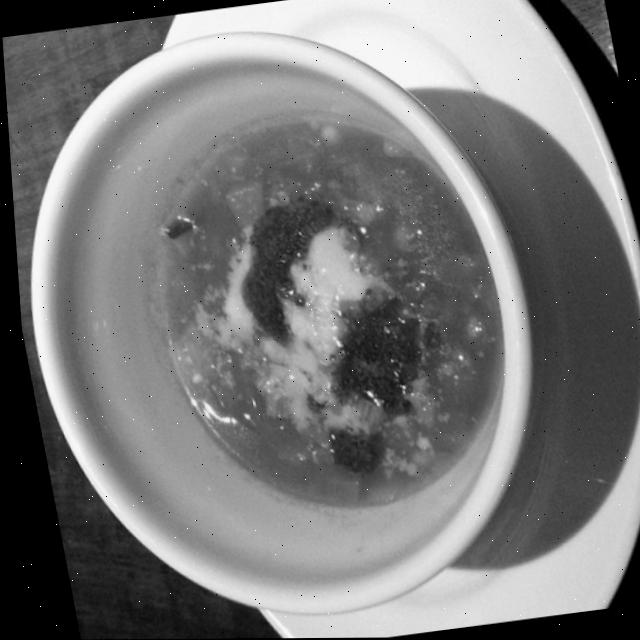汤锅炖物: (101, 97, 535, 548)
